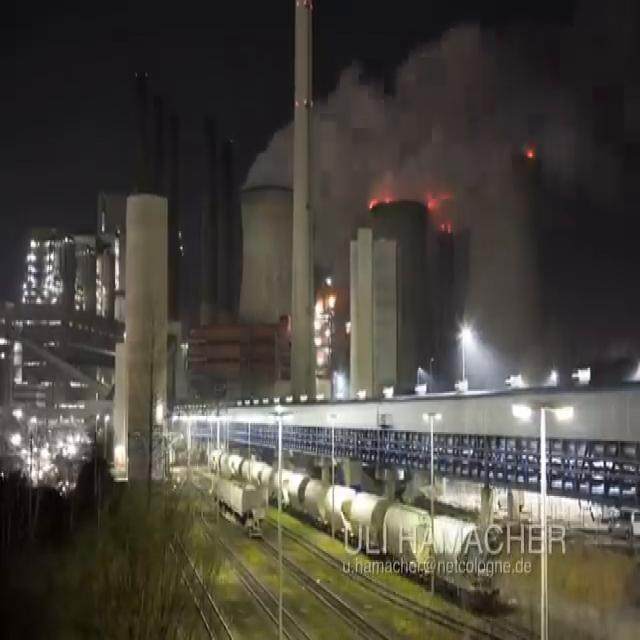smoke: (313, 27, 578, 388), (242, 123, 293, 190)
